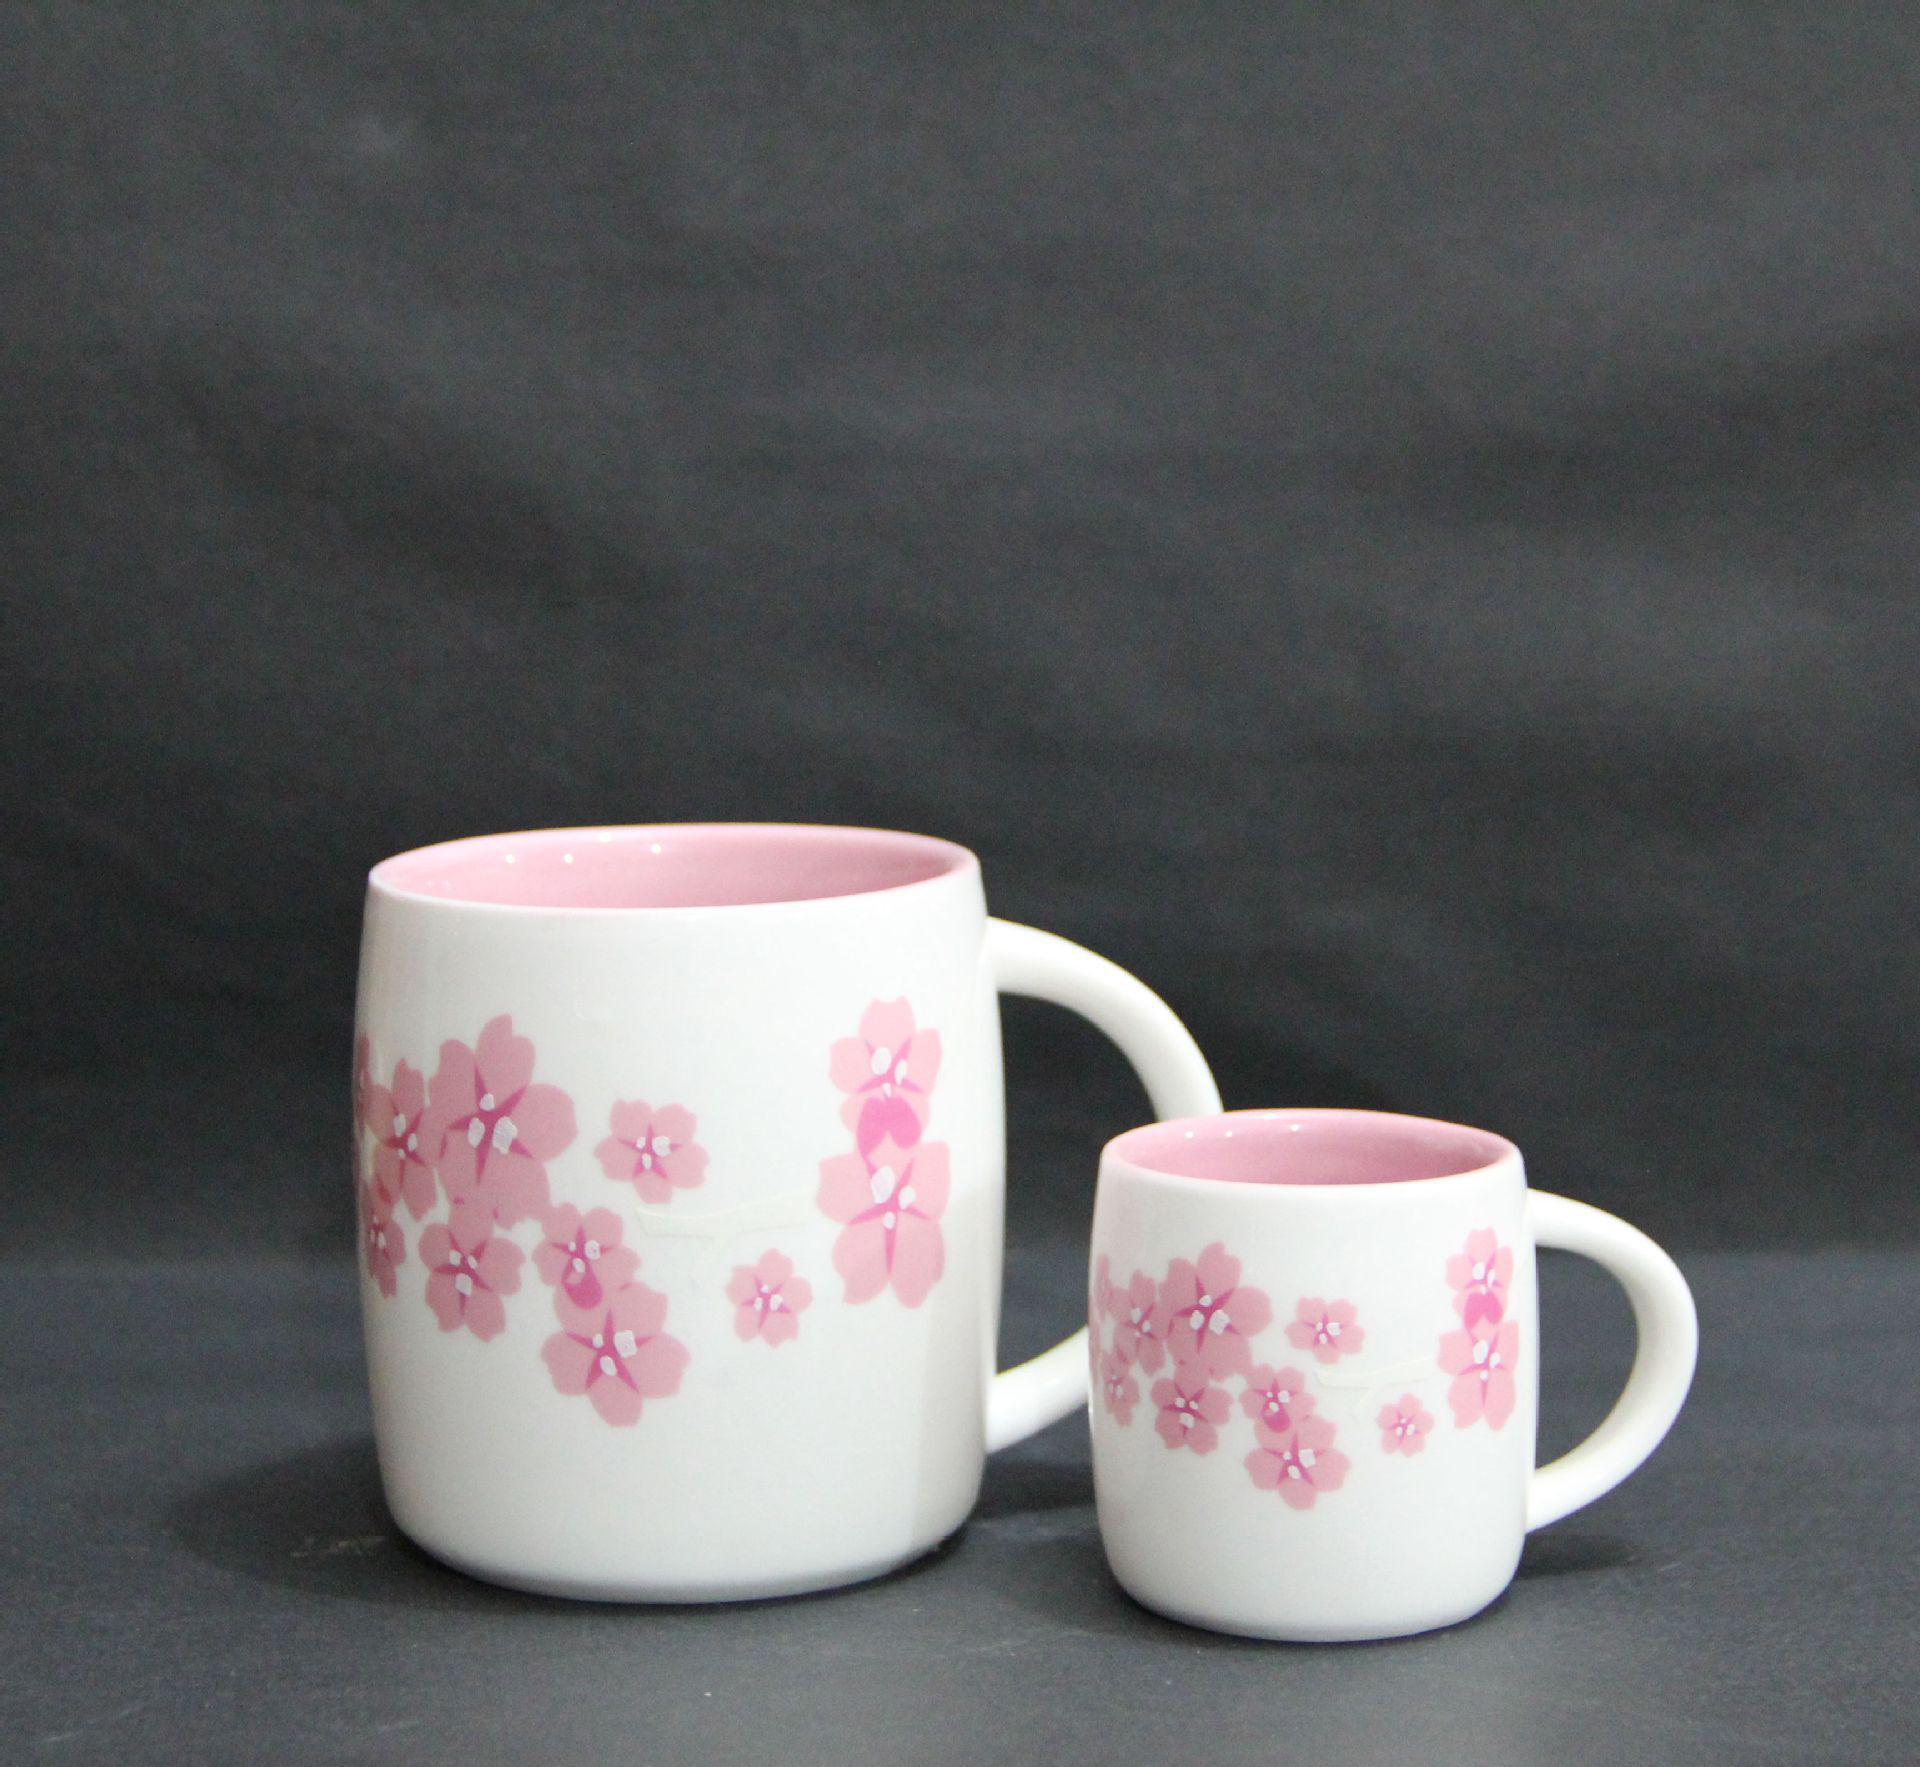cup: (336, 812, 1226, 1617), (1075, 1105, 1704, 1652)
